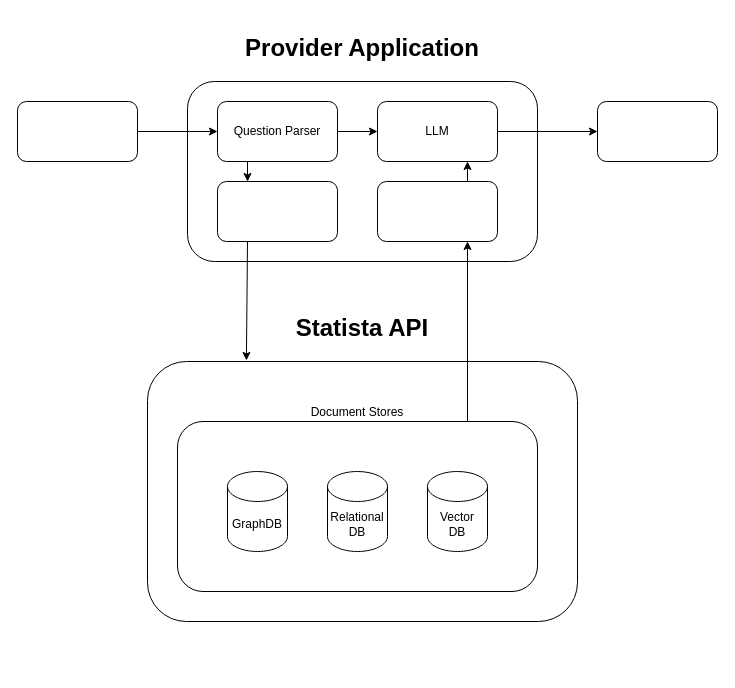
This 735x688 diagram has some shape labels left out. Each missing label, with the centre of its shape:
Answer: (657,131)
Data Retrieval: (277,211)
Question?: (77,131)
Supporting Data: (437,211)
